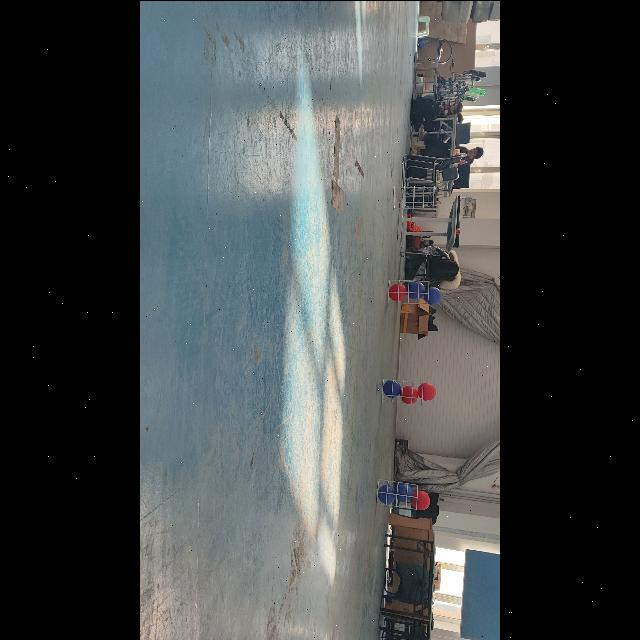B: (378, 484, 396, 504), (422, 286, 442, 304), (383, 379, 401, 398), (407, 280, 425, 298), (396, 482, 412, 502)
R: (411, 490, 431, 510), (399, 384, 418, 404), (388, 284, 406, 300), (420, 382, 434, 400)
S: (372, 476, 422, 512), (378, 374, 424, 408), (386, 274, 430, 308), (389, 182, 436, 210)
